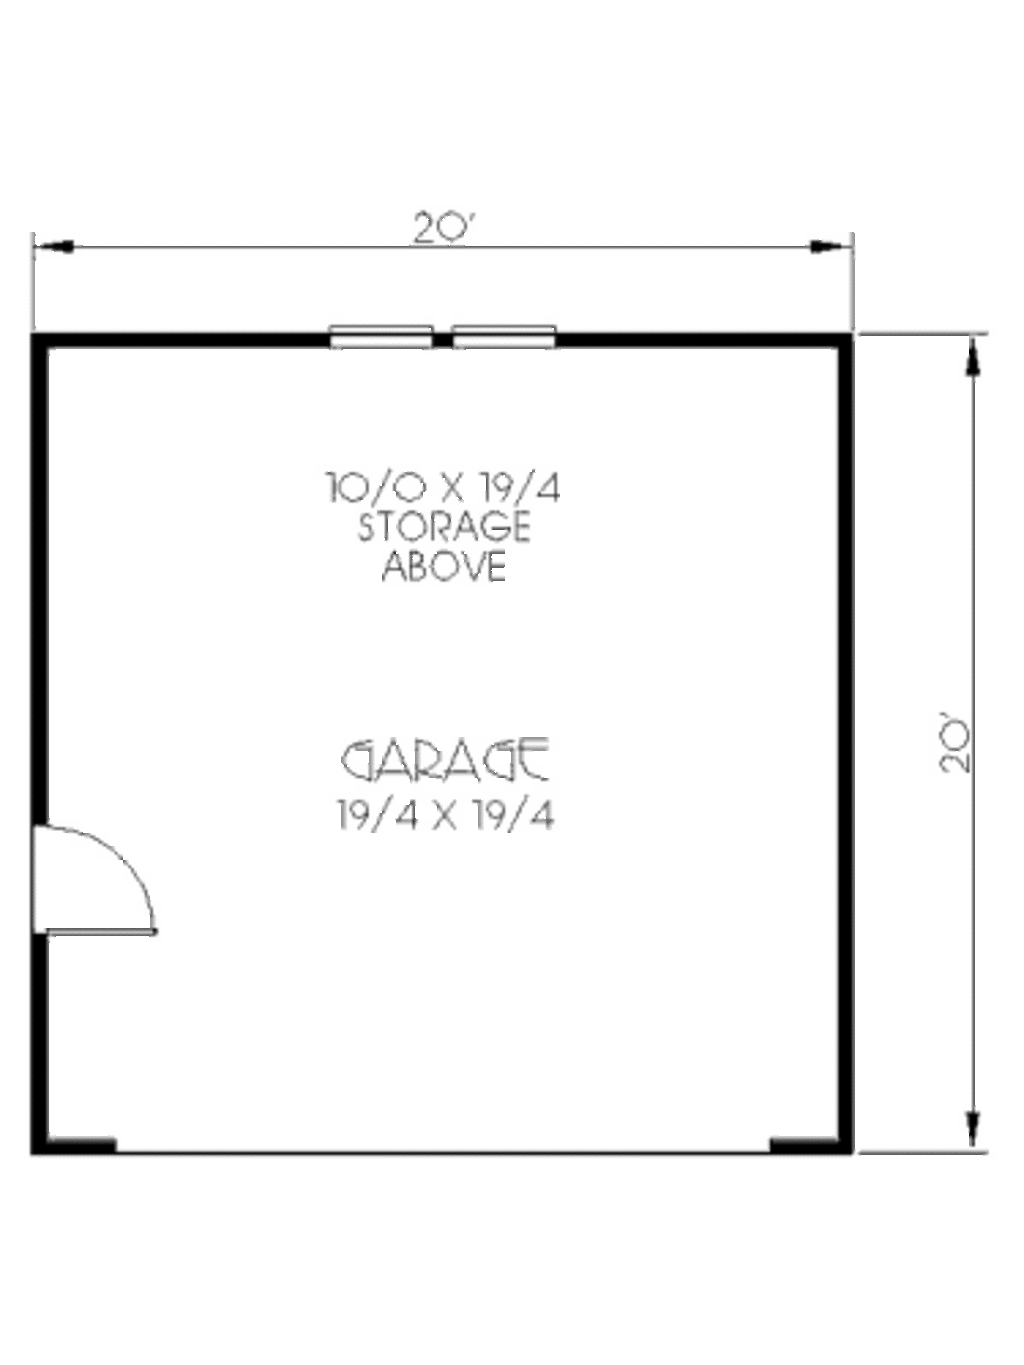door: (15, 813, 163, 944)
window: (323, 313, 440, 359), (455, 311, 557, 362)
